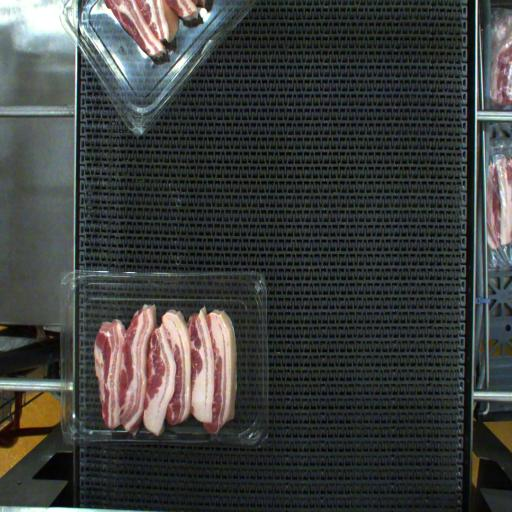packaging-error: (100, 400, 236, 458)
